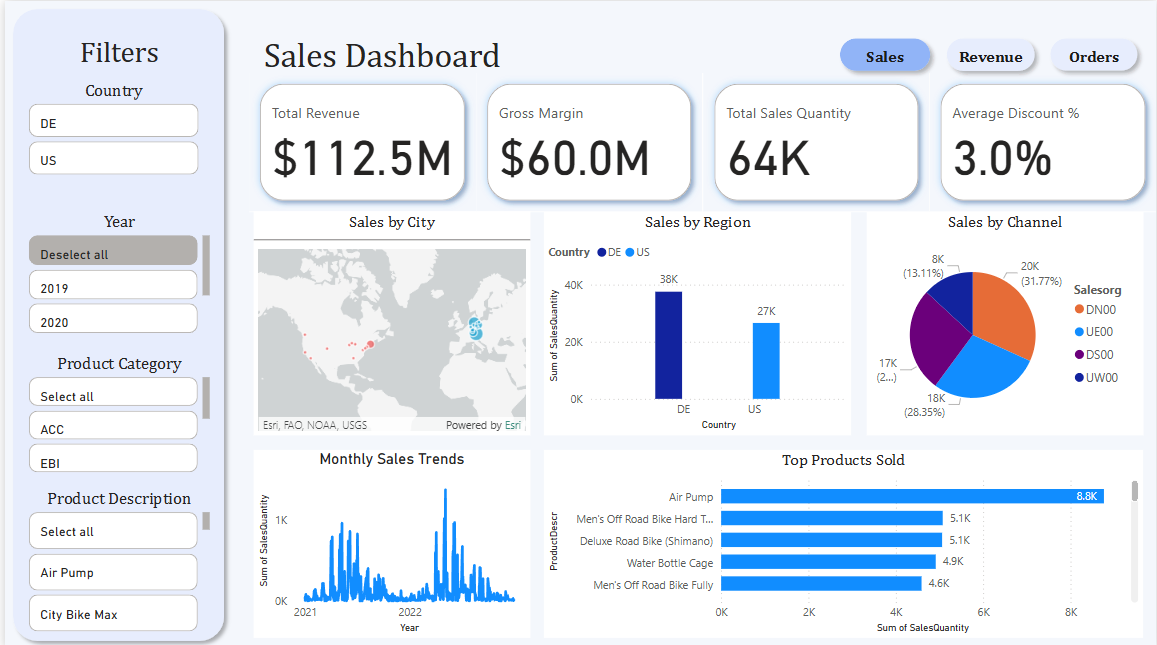

The page's visual inventory and layout, read from the dashboard file:
{"tool":"powerbi","page":{"name":"Sales","canvas":[1280,720],"ordinal":0},"visuals":[{"type":"clusteredColumnChart","title":"Sales by Region","fields":{"Category":["Salesdata.Country"],"Series":["Salesdata.Country"],"Y":["Sum(Salesdata.SalesQuantity)"]},"box":[598.6,234.3,341.4,248.6],"z":0},{"type":"lineChart","title":"Monthly Sales Trends","fields":{"Category":["Salesdata.Date.Variation.Date Hierarchy.Year","Salesdata.Date.Variation.Date Hierarchy.Quarter","Salesdata.Date.Variation.Date Hierarchy.Month","Salesdata.Date.Variation.Date Hierarchy.Day"],"Y":["Sum(Salesdata.SalesQuantity)"]},"box":[275.7,498.6,307.1,208.6],"z":1000},{"type":"cardVisual","fields":{"Data":["Salesdata.Total Revenue"]},"box":[271.4,80,252.9,154.3],"z":2000},{"type":"pieChart","title":"Sales by Channel","fields":{"Category":["Salesdata.Salesorg"],"Y":["Sum(Salesdata.SalesQuantity)"]},"box":[957.1,234.3,307.1,248.6],"z":3000},{"type":"cardVisual","fields":{"Data":["Salesdata.Gross Margin"]},"box":[524.3,80,251.4,154.3],"z":4000},{"type":"cardVisual","fields":{"Data":["Salesdata.Total Sales Quantity"]},"box":[775.7,80,251.4,154.3],"z":5000},{"type":"cardVisual","fields":{"Data":["Salesdata.Average Discount %"]},"box":[1027.1,80,252.9,154.3],"z":6000},{"type":"esriVisual","title":"Sales by City","fields":{"Location":["Salesdata.City"],"Size":["Sum(Salesdata.SalesQuantity)"],"Color":["Salesdata.Country"]},"box":[275.7,234.3,307.1,248.6],"z":7000},{"type":"barChart","title":"Top Products Sold","fields":{"Category":["Salesdata.ProductDescr"],"Y":["Sum(Salesdata.SalesQuantity)"]},"box":[598.6,498.6,665.7,208.6],"z":8000},{"type":"textbox","box":[282.9,32.9,300,68.6],"z":9000},{"type":"actionButton","box":[1037.1,32.9,115.7,54.3],"z":10000},{"type":"actionButton","box":[1152.9,32.9,115,54],"z":11000},{"type":"actionButton","box":[918.6,32.9,118.6,54.3],"z":12000},{"type":"shape","box":[0,0,252.9,720],"z":13000},{"type":"advancedSlicerVisual","fields":{"Values":["Salesdata.Country"]},"box":[21,87,199,112],"z":14000},{"type":"advancedSlicerVisual","title":"Year","fields":{"Values":["Salesdata.YEAR"]},"box":[21.4,234.3,211.4,141.4],"z":15000},{"type":"advancedSlicerVisual","fields":{"Values":["Salesdata.Product Category"]},"box":[21.4,391.4,211.4,138.6],"z":16000},{"type":"advancedSlicerVisual","title":"Product Description","fields":{"Values":["Salesdata.ProductDescr"]},"box":[21.4,541.4,211.4,165.7],"z":17000},{"type":"textbox","box":[21.4,32.9,211.4,68.6],"z":18000}]}

Visuals, with their boxes in screenshot pixels (x1, y1, x2, y2), scaled from the page's 1280x720 canvas onto the 1157x645 screenshot:
"Sales by Region" clusteredColumnChart: <bbox>541, 210, 850, 433</bbox>
"Monthly Sales Trends" lineChart: <bbox>249, 447, 527, 634</bbox>
cardVisual - Salesdata.Total Revenue: <bbox>245, 72, 474, 210</bbox>
"Sales by Channel" pieChart: <bbox>865, 210, 1143, 433</bbox>
cardVisual - Salesdata.Gross Margin: <bbox>474, 72, 701, 210</bbox>
cardVisual - Salesdata.Total Sales Quantity: <bbox>701, 72, 928, 210</bbox>
cardVisual - Salesdata.Average Discount %: <bbox>928, 72, 1156, 210</bbox>
"Sales by City" esriVisual: <bbox>249, 210, 527, 433</bbox>
"Top Products Sold" barChart: <bbox>541, 447, 1143, 634</bbox>
textbox: <bbox>256, 29, 527, 91</bbox>
actionButton: <bbox>937, 29, 1042, 78</bbox>
actionButton: <bbox>1042, 29, 1146, 78</bbox>
actionButton: <bbox>830, 29, 938, 78</bbox>
shape: <bbox>0, 0, 229, 644</bbox>
advancedSlicerVisual - Salesdata.Country: <bbox>19, 78, 199, 178</bbox>
"Year" advancedSlicerVisual: <bbox>19, 210, 210, 337</bbox>
advancedSlicerVisual - Salesdata.Product Category: <bbox>19, 351, 210, 475</bbox>
"Product Description" advancedSlicerVisual: <bbox>19, 485, 210, 633</bbox>
textbox: <bbox>19, 29, 210, 91</bbox>
